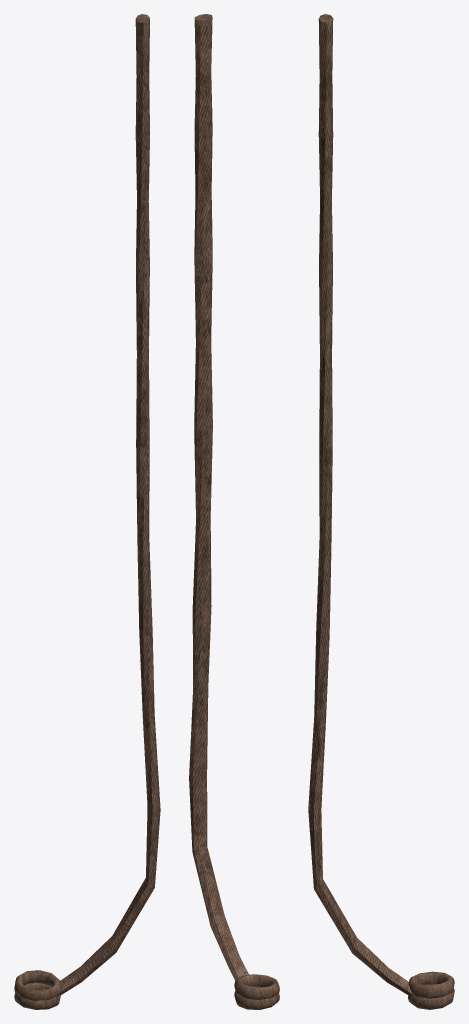
File: CuerdaParaCleat.fbx
The picture shows the model from 3 angles, left to right: view 1: azimuth 90°, elevation 25°; view 2: azimuth 210°, elevation 25°; view 3: azimuth 270°, elevation 25°; orthographic projection. The views are drawn at different scales.
Parts seen in each view (by area): view 1: Cuerda.003, Torus.003; view 2: Cuerda.003, Torus.003; view 3: Cuerda.003, Torus.003.
Boxes of the visible parts, x1,y1,x2,y2 form: Cuerda.003: (59,14,160,995); Torus.003: (14,970,60,1009); Cuerda.003: (189,14,248,980); Torus.003: (234,974,279,1009); Cuerda.003: (308,14,412,996); Torus.003: (408,971,454,1009).
Size of the model in its own units: 50.71 by 1146 by 155.
Materials: 1 (1 with a texture image).
